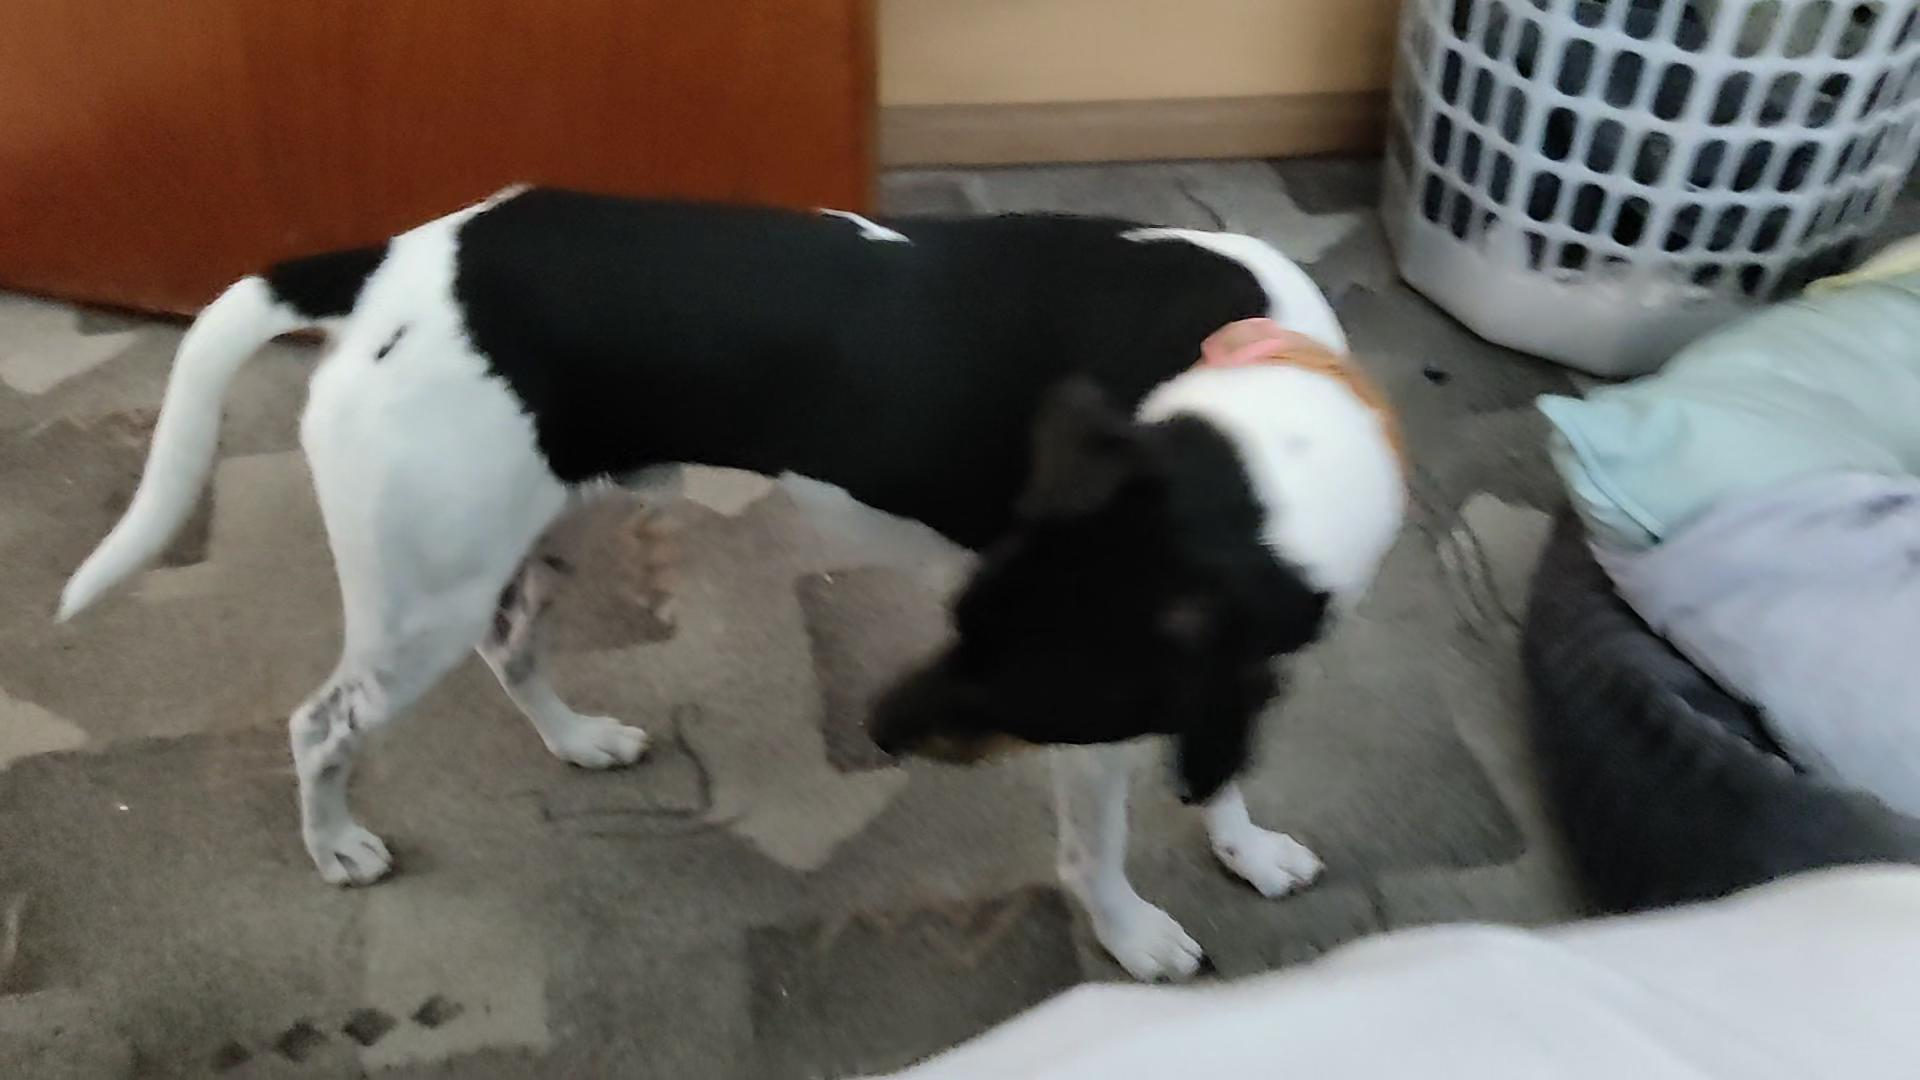Dog: (21, 166, 1458, 1006)
